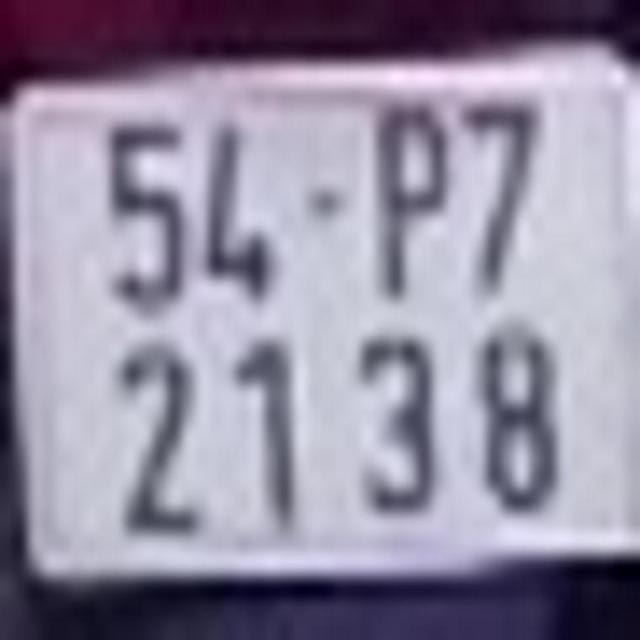1: (233, 338, 299, 540)
2: (122, 340, 200, 532)
3: (358, 328, 438, 517)
4: (206, 122, 273, 308)
5: (109, 122, 183, 317)
7: (458, 99, 537, 296)
8: (481, 322, 561, 520)
P: (375, 103, 449, 299)
